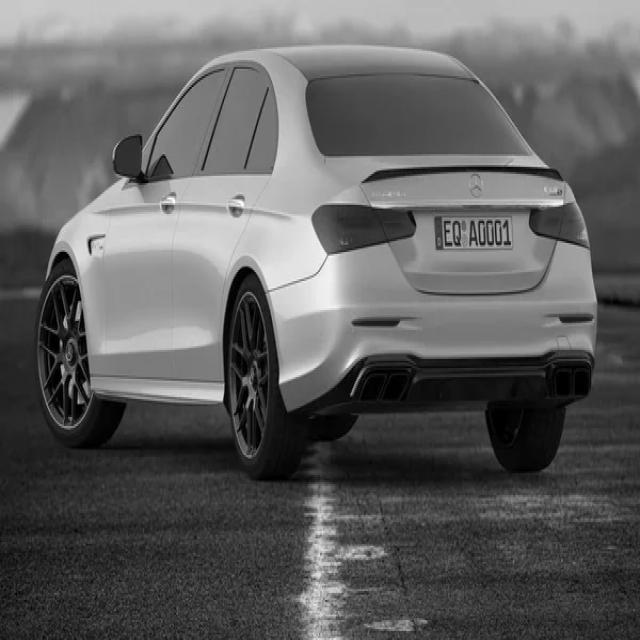Car: (35, 45, 598, 477)
